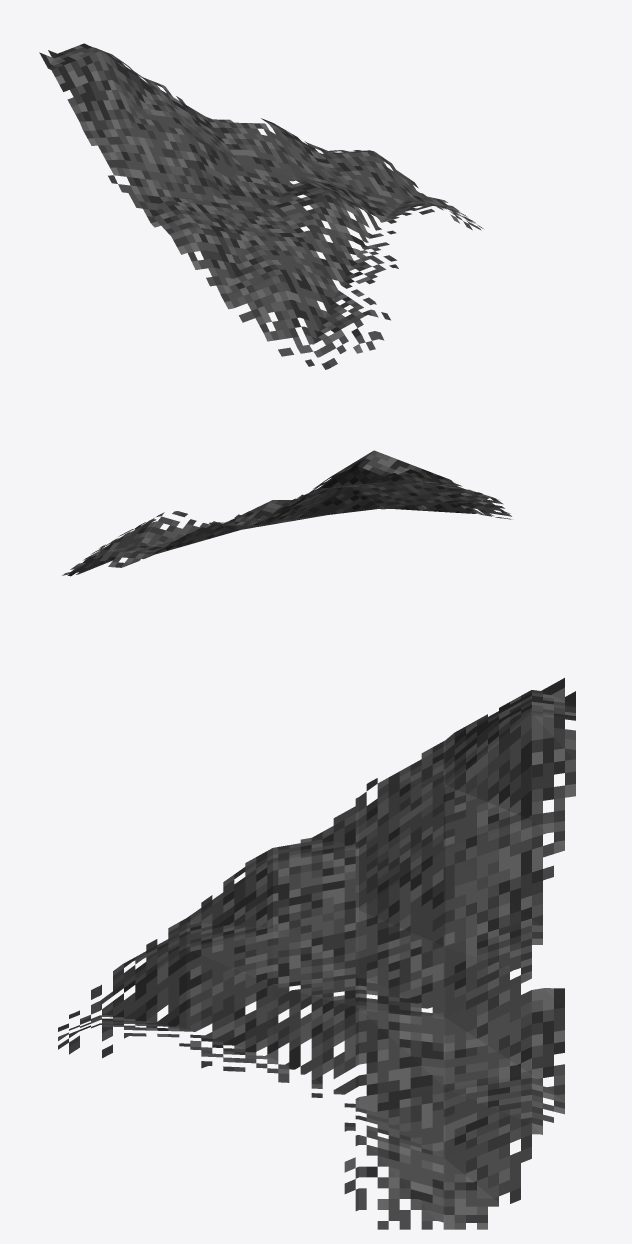
The model's file is debris_202x03.gltf.
3 views of the same model, one above another, from view 1: azimuth 30°, elevation 25°; view 2: azimuth 150°, elevation 25°; view 3: azimuth 270°, elevation 25° (orthographic). The views are drawn at different scales.
Visible parts, largest first — view 1: debris_202x03; view 2: debris_202x03; view 3: debris_202x03.
Boxes of the visible parts, box(x1,y1,x2,y2) form: debris_202x03: box(39, 43, 483, 369); debris_202x03: box(62, 450, 511, 576); debris_202x03: box(58, 678, 575, 1229).
Bounding box in the file's own units: 4.99 × 3.04 × 4.98.
1 material, 1 textured.
